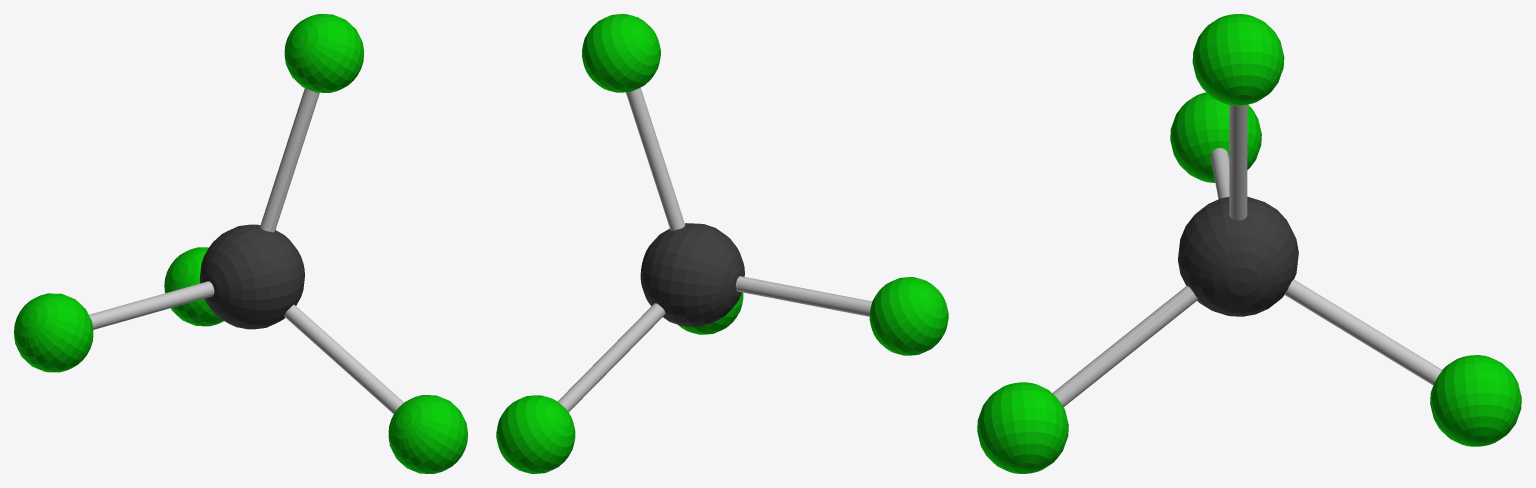
3 renders of one model, left to right at view 1: azimuth 30°, elevation 25°; view 2: azimuth 150°, elevation 25°; view 3: azimuth 270°, elevation 25°, orthographic. The views are drawn at different scales.
Visible parts, largest first — view 1: Componente_2_1, Tetraedro1, Componente_1_3, Componente_1_1, Componente_1_4, Componente_1_2; view 2: Componente_2_1, Tetraedro1, Componente_1_2, Componente_1_3, Componente_1_4, Componente_1_1; view 3: Componente_2_1, Tetraedro1, Componente_1_4, Componente_1_1, Componente_1_2, Componente_1_3.
Part boxes in pixels (<box>): Componente_2_1: <box>200,224,304,329</box>; Tetraedro1: <box>89,88,403,413</box>; Componente_1_3: <box>14,293,93,372</box>; Componente_1_1: <box>388,395,467,473</box>; Componente_1_4: <box>284,14,363,92</box>; Componente_1_2: <box>164,247,223,326</box>; Componente_2_1: <box>640,223,744,326</box>; Tetraedro1: <box>558,87,872,411</box>; Componente_1_2: <box>496,395,575,473</box>; Componente_1_3: <box>869,277,948,355</box>; Componente_1_4: <box>582,14,660,92</box>; Componente_1_1: <box>678,292,743,334</box>; Componente_2_1: <box>1178,196,1298,316</box>; Tetraedro1: <box>1052,105,1442,406</box>; Componente_1_4: <box>1192,14,1284,105</box>; Componente_1_1: <box>977,382,1068,473</box>; Componente_1_2: <box>1430,355,1521,446</box>; Componente_1_3: <box>1170,92,1261,182</box>.
Bounding box in the file's own units: 52.48 × 54.03 × 59.85.
